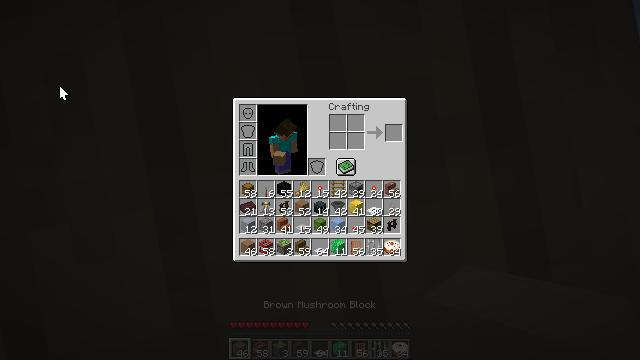cursor: (85, 59, 101, 69)
